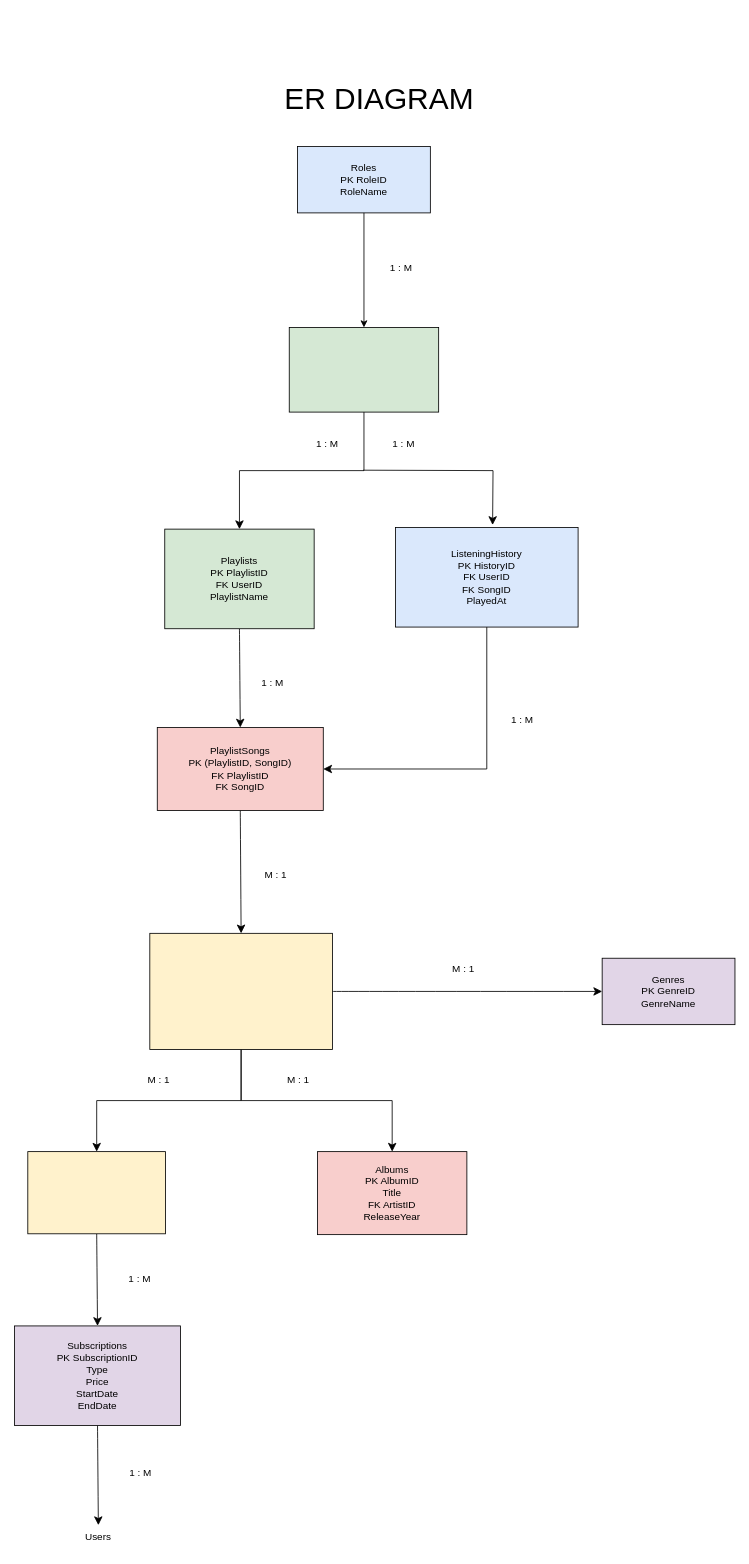
The diagram is 749 pixels wide and 1564 high, and some of its shapes have lost their labels. Here are the shapes that lost their labels. From the top down, the box of each, then its label:
(288, 327, 439, 412): Users PK UserID FullName Email FK RoleID
(149, 933, 332, 1050): Songs PK SongID Title Duration FK ArtistID FK AlbumID FK GenreID PlayCount
(27, 1151, 166, 1234): Artists PK ArtistID ArtistName Country
